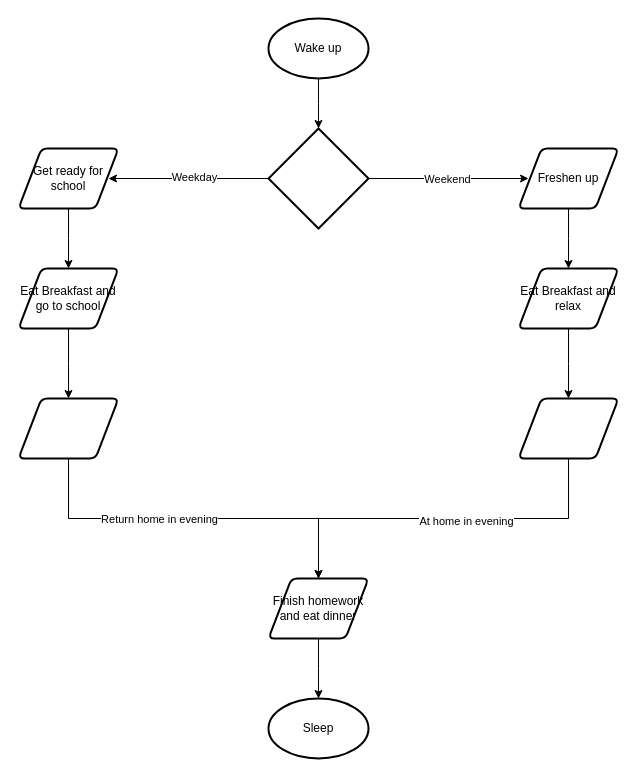
Image size: 636x776. Some labels were removed from this diagram. The shapes that lost their labels are listed below. From the top down, each one's centre as x and y in pixels, then its label:
At pixel 318 178: "Check the day".
At pixel 68 428: "Study & talk to friends".
At pixel 568 428: "Spend day studying & playing".
